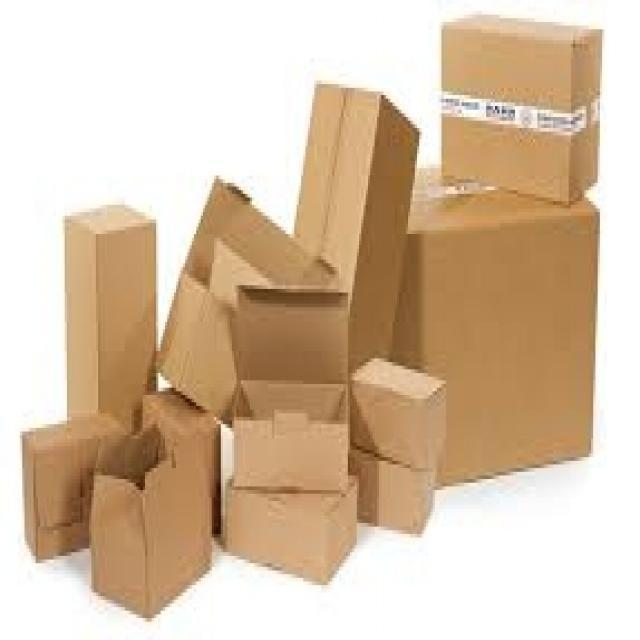cardboard paper: (22, 14, 599, 614), (391, 192, 596, 481), (441, 15, 599, 200)
